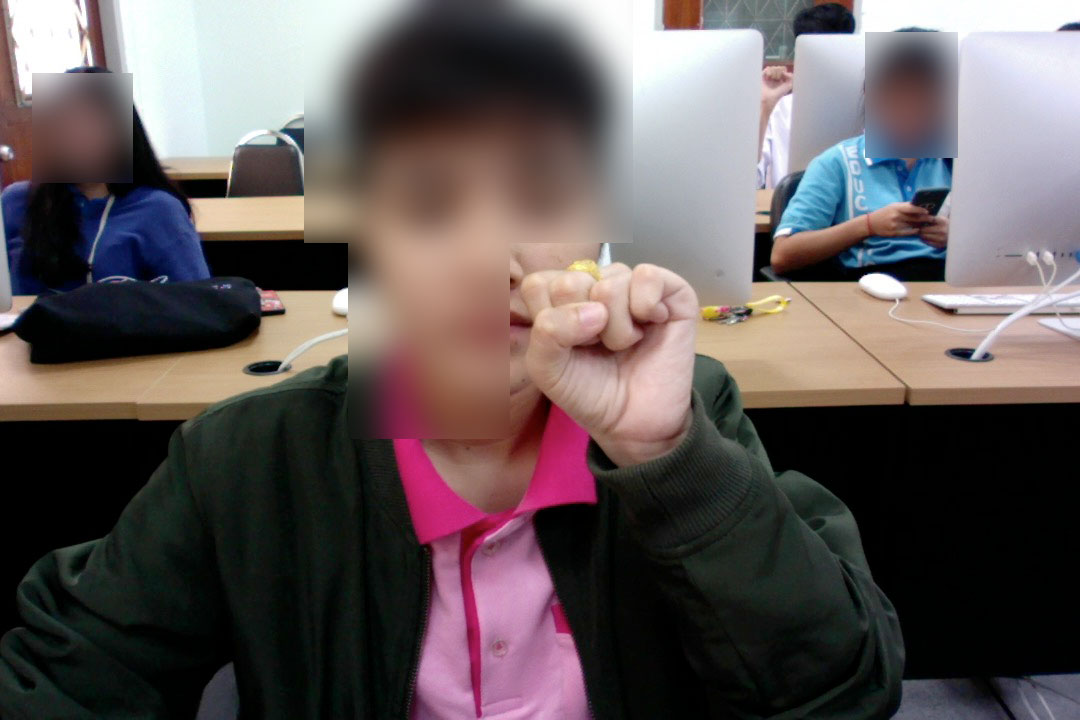sor: (515, 260, 716, 452)
